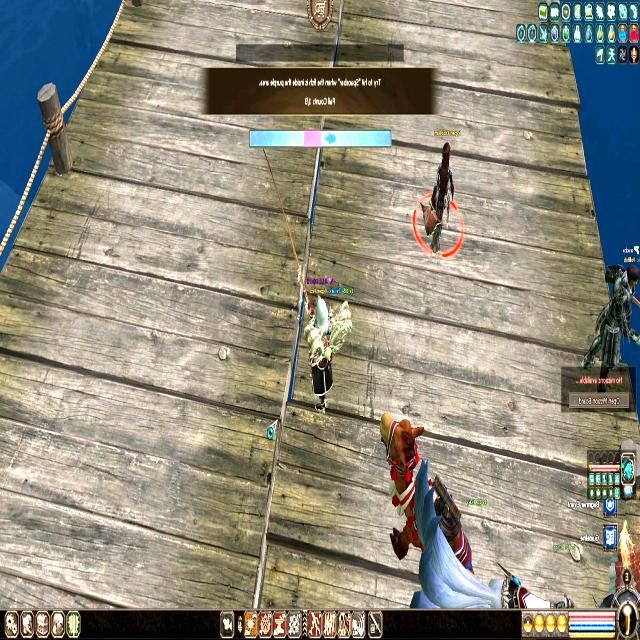fishes: (324, 132, 336, 146)
